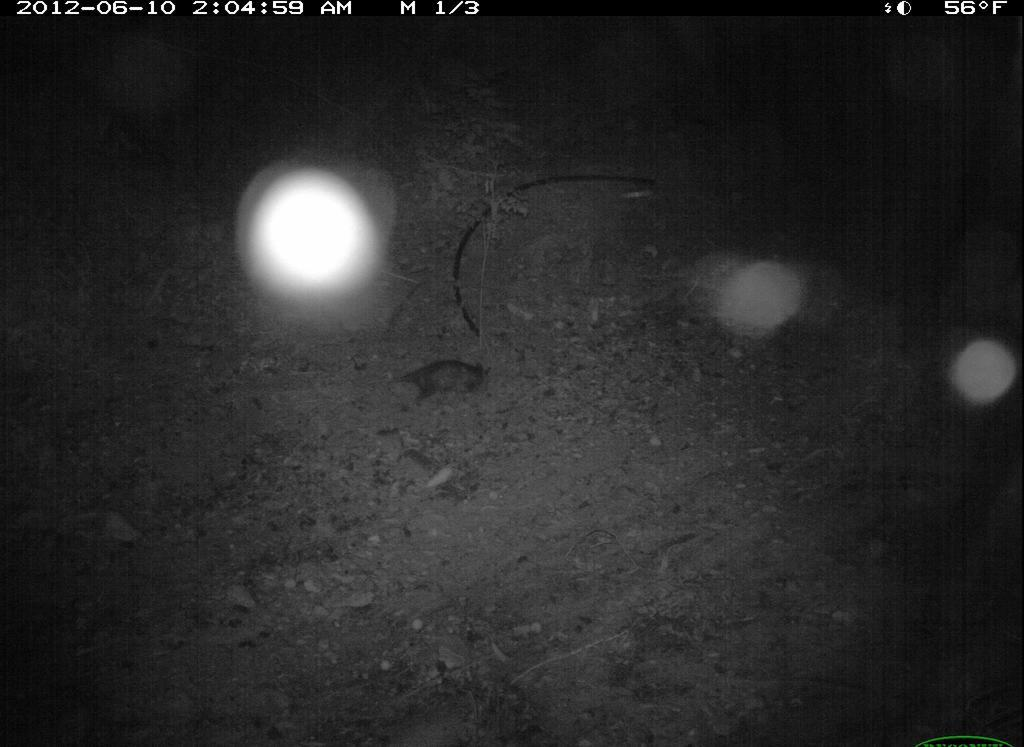opossum: (382, 351, 505, 409)
